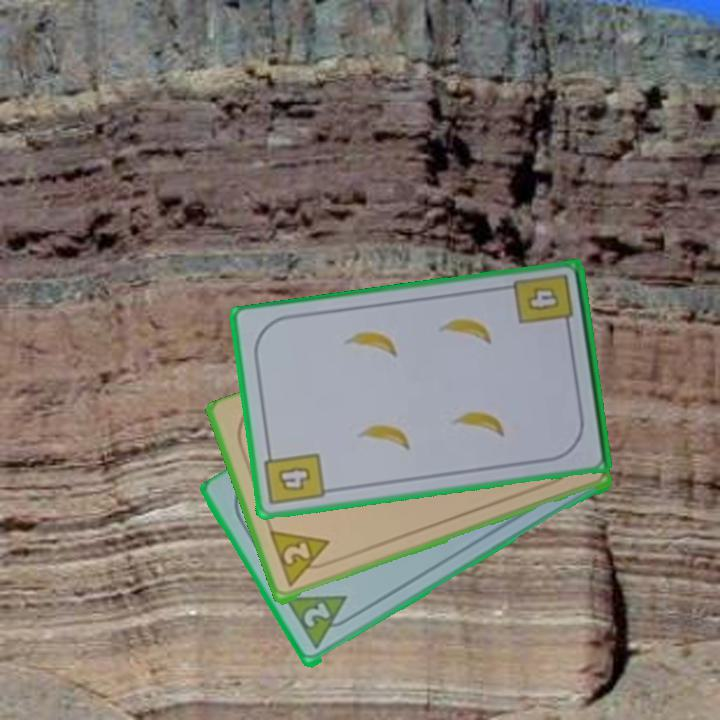2p: (266, 528, 338, 592), (299, 599, 334, 631)
4b: (511, 270, 577, 335), (261, 445, 328, 509)
